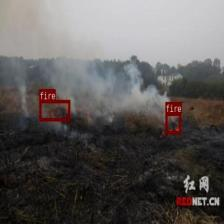fire: (39, 99, 70, 120), (165, 113, 181, 134)
